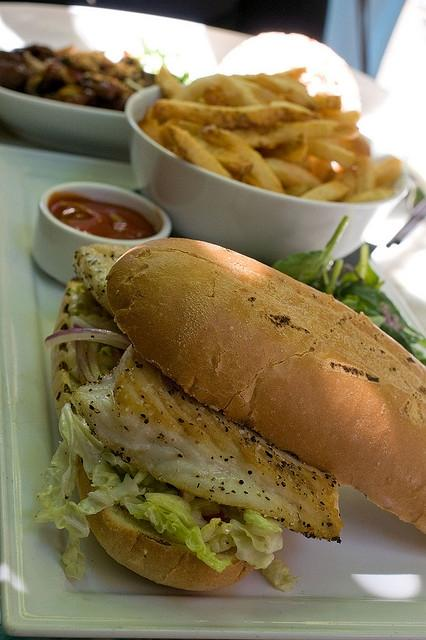lettuce: (271, 215, 426, 367), (54, 472, 146, 580), (34, 402, 112, 522), (229, 519, 284, 570), (89, 452, 138, 488), (260, 558, 302, 592), (190, 498, 211, 512)
onion: (44, 328, 131, 350), (76, 342, 101, 382)
